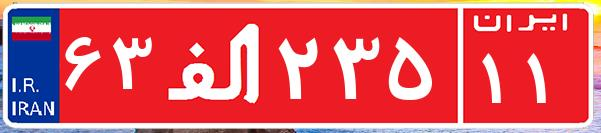1: (475, 38, 525, 113), (525, 38, 570, 115)
2: (273, 28, 330, 110)
3: (330, 28, 385, 110), (110, 28, 158, 105)
5: (385, 28, 445, 110)
6: (57, 26, 110, 107)
الف: (158, 15, 273, 115)
